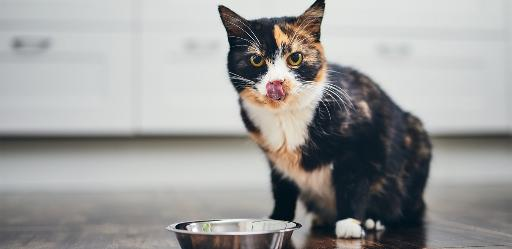cat_eating: (167, 0, 431, 249)
